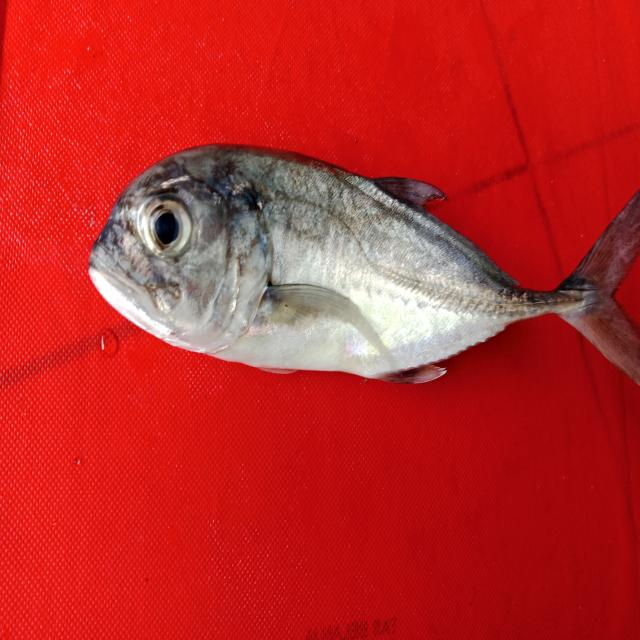ikan: (81, 126, 631, 400)
